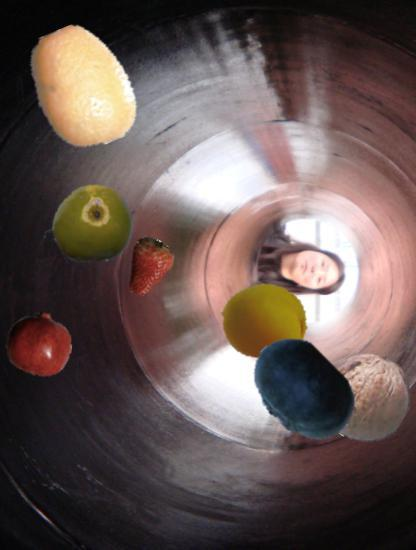Blueberry: (245, 333, 360, 448)
Kumquats: (20, 25, 145, 150)
Maracuja: (48, 183, 135, 270)
Peach: (220, 277, 309, 366)
Pomegranate: (6, 311, 73, 378)
Strawberry: (116, 237, 175, 296)
Walnut: (322, 352, 414, 444)
